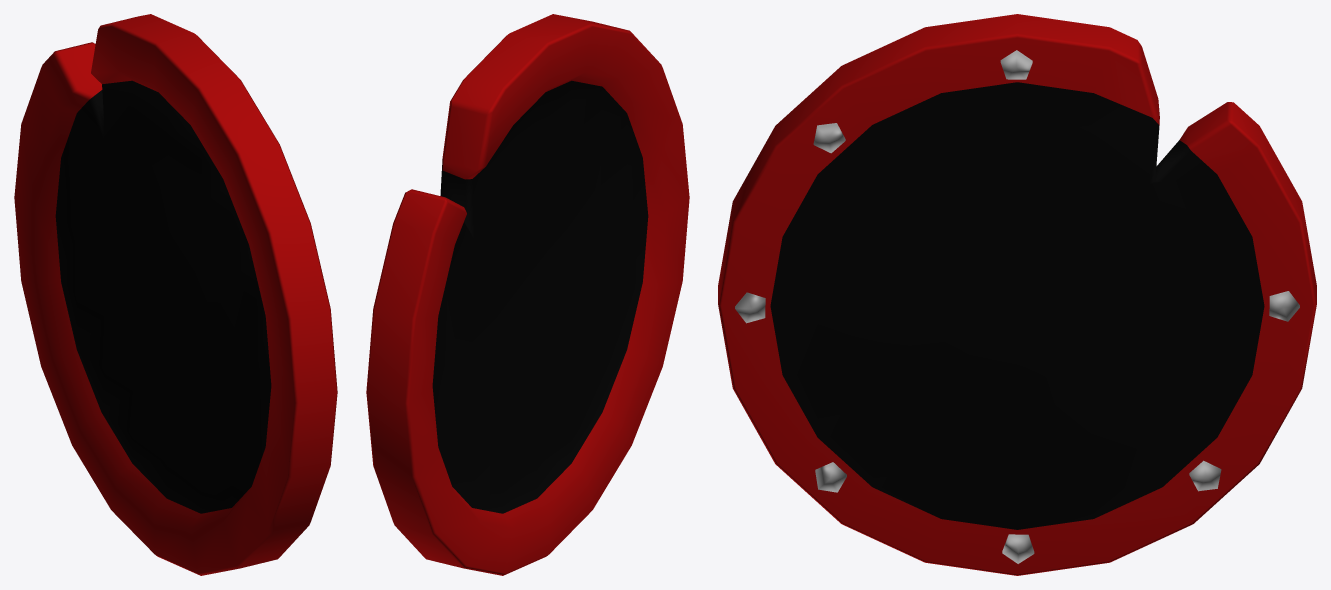
File: Shield_STANDARD.fbx
3 renders of one model, left to right at view 1: azimuth 30°, elevation 25°; view 2: azimuth 150°, elevation 25°; view 3: azimuth 270°, elevation 25°, orthographic. The views are drawn at different scales.
Parts seen in each view (by area): view 1: Shield_Main; view 2: Shield_Main; view 3: Shield_Main, Shield_Cylinders.
Boxes of the visible parts, left/top/right/bottom form: Shield_Main: left=14, top=14, right=337, bottom=575; Shield_Main: left=366, top=14, right=689, bottom=575; Shield_Main: left=718, top=14, right=1316, bottom=575; Shield_Cylinders: left=735, top=50, right=1299, bottom=563.
Size of the model in its own units: 0.0106 by 0.0926 by 0.0926.
